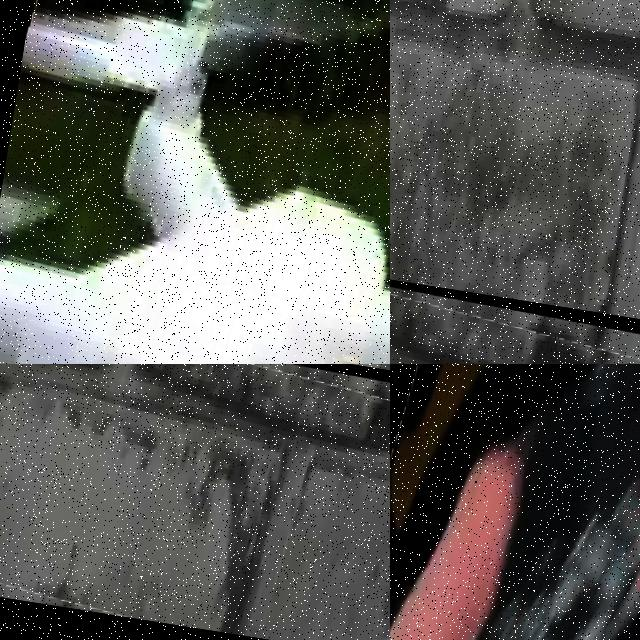drone: (0, 0, 390, 364), (0, 364, 390, 640), (390, 364, 640, 640), (390, 242, 640, 364)
